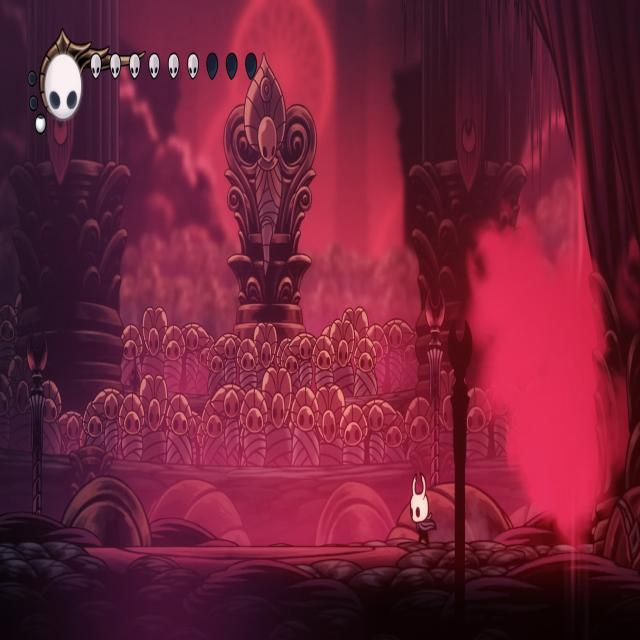Player: (407, 469, 440, 554)
